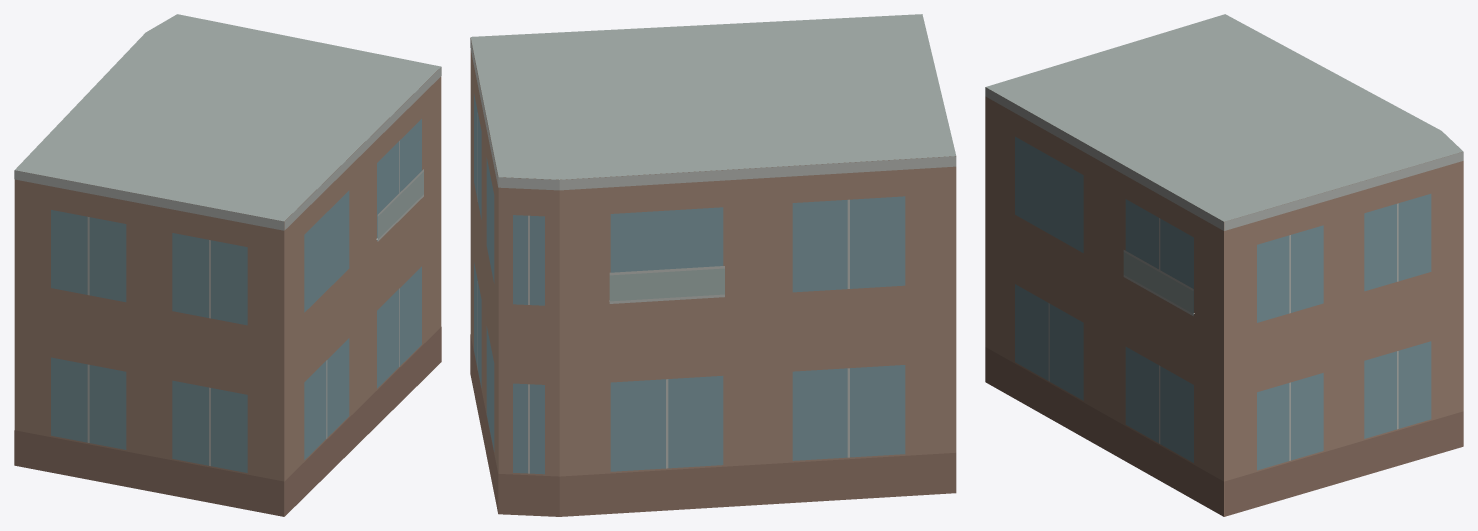
File: survey-upis-32578222.glb
The picture shows the model from 3 angles, left to right: view 1: azimuth 30°, elevation 25°; view 2: azimuth 150°, elevation 25°; view 3: azimuth 270°, elevation 25°; orthographic projection. The views are drawn at different scales.
Visible parts, largest first — view 1: survey-upis-32578222.tmp; view 2: survey-upis-32578222.tmp; view 3: survey-upis-32578222.tmp.
Boxes of the visible parts, box(x1,y1,x2,y2) form: survey-upis-32578222.tmp: box(14, 14, 441, 516); survey-upis-32578222.tmp: box(470, 14, 956, 516); survey-upis-32578222.tmp: box(985, 14, 1463, 516).
Bounding box in the file's own units: 11.72 × 7.75 × 11.39.
